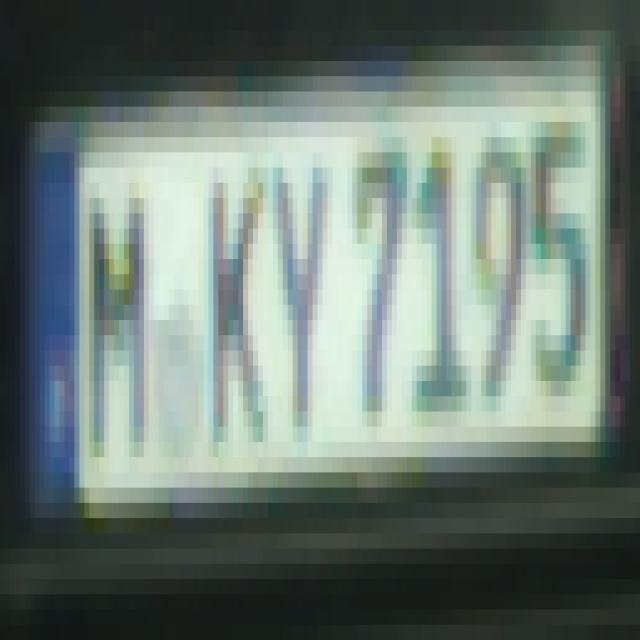Autre: (23, 63, 603, 523)
